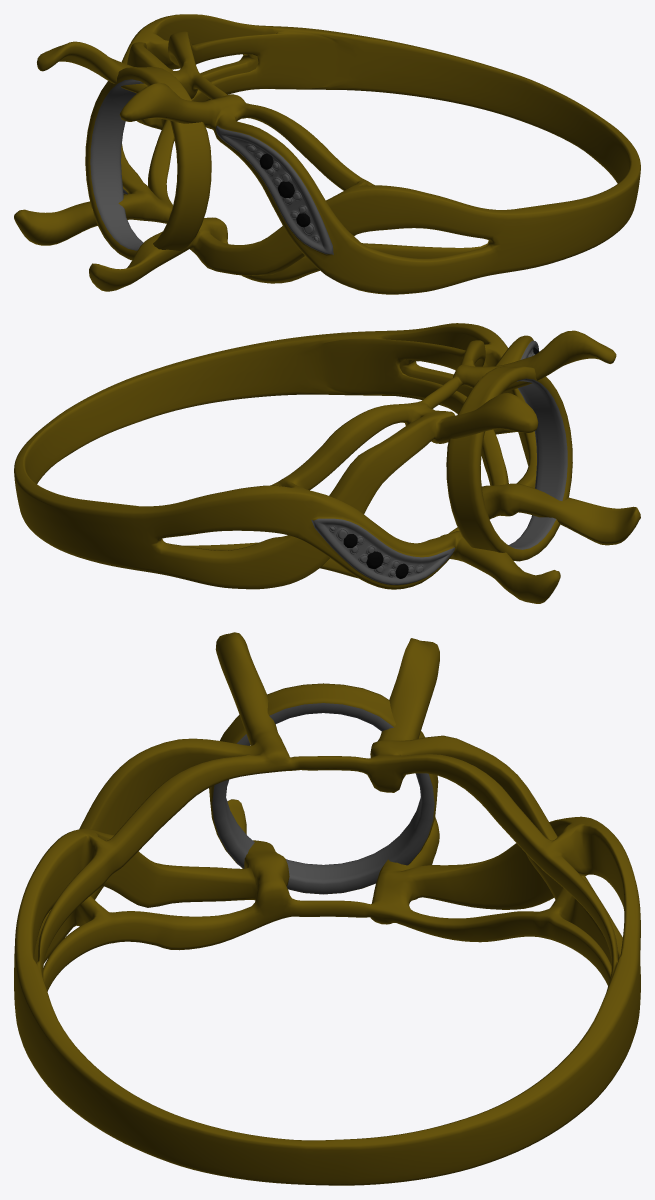
Rendered from Ring N080111.glb.
3 renders of one model, top to bottom at view 1: azimuth 30°, elevation 25°; view 2: azimuth 150°, elevation 25°; view 3: azimuth 270°, elevation 25°, orthographic. The views are drawn at different scales.
Visible parts, largest first — view 1: Box02; view 2: Box02; view 3: Box02.
Boxes of the visible parts, <box> form: Box02: <box>14,14,640,294</box>; Box02: <box>14,323,640,603</box>; Box02: <box>14,632,640,1185</box>.
Size of what is drawn, in the model's own units: 4634 by 1742 by 3737.
